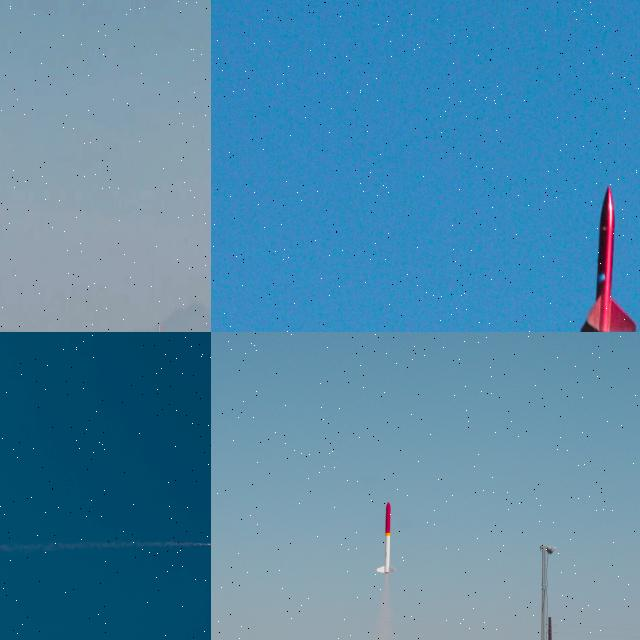Rocket: (578, 185, 638, 332), (376, 501, 397, 575), (207, 541, 211, 546)
